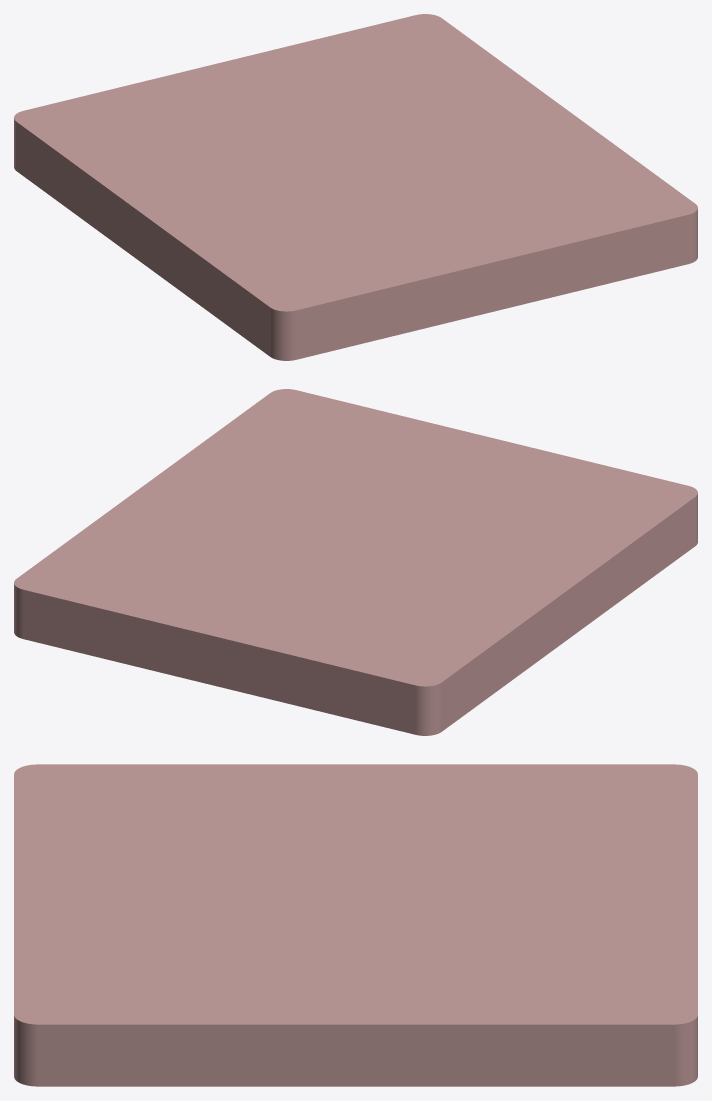
The picture shows the model from 3 angles, top to bottom: view 1: azimuth 30°, elevation 25°; view 2: azimuth 150°, elevation 25°; view 3: azimuth 270°, elevation 25°; orthographic projection. The views are drawn at different scales.
Visible parts, largest first — view 1: Base; view 2: Base; view 3: Base.
Part boxes in pixels (x1,y1,x2,y2): Base: [14, 14, 697, 360]; Base: [14, 389, 697, 735]; Base: [14, 764, 697, 1086].
Size of the model in its own units: 12.09 by 1.34 by 13.43.
